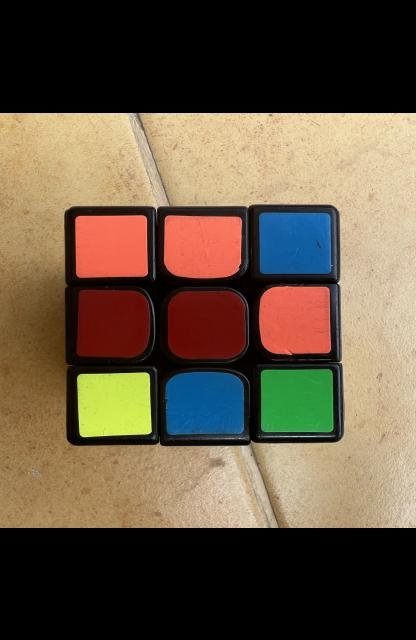Blue: (166, 371, 244, 434), (259, 212, 332, 273)
Green: (260, 368, 334, 432)
Orange: (259, 285, 332, 354), (164, 214, 242, 278), (76, 214, 148, 277)
Red: (168, 290, 245, 358), (77, 289, 150, 357)
Yellow: (77, 371, 152, 436)
